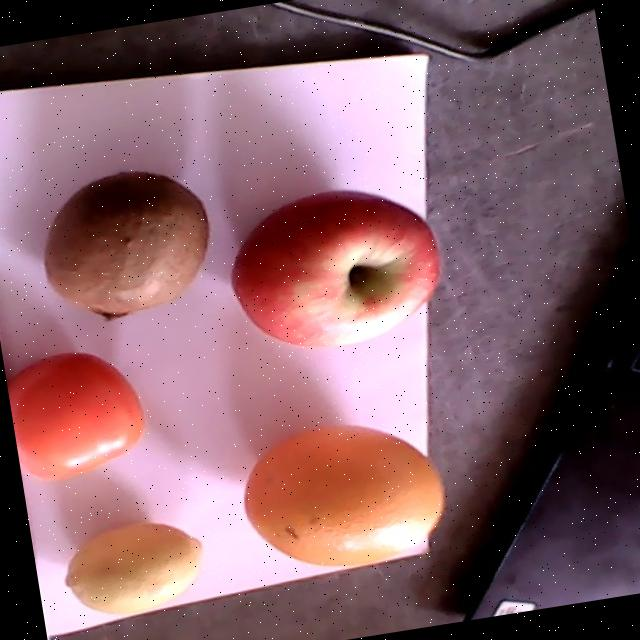apple: (230, 190, 440, 348)
kiwi: (44, 172, 209, 321)
lemon: (63, 524, 202, 614)
orange: (244, 424, 443, 567)
tomato: (8, 354, 143, 480)
